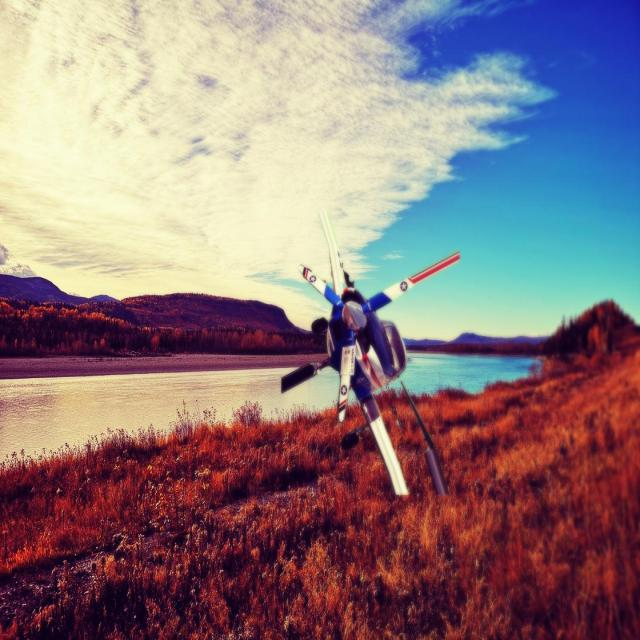airplane: (279, 209, 460, 497)
